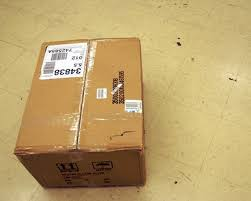undamaged: (11, 37, 147, 189)
